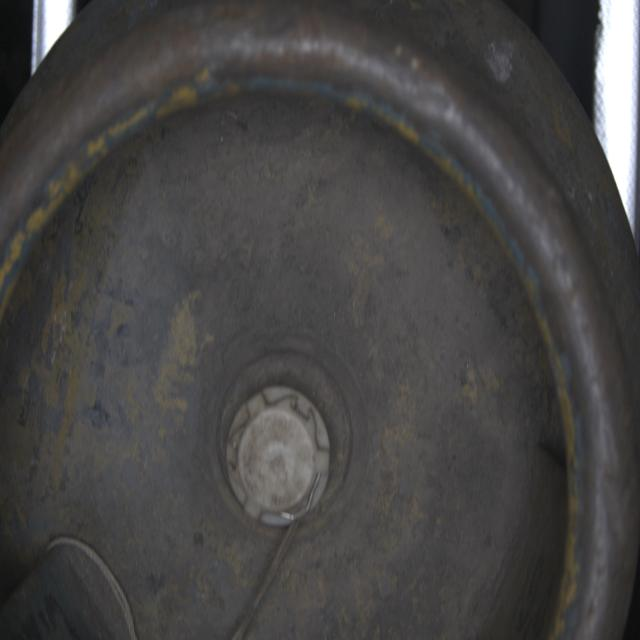Cap: (223, 381, 336, 530)
